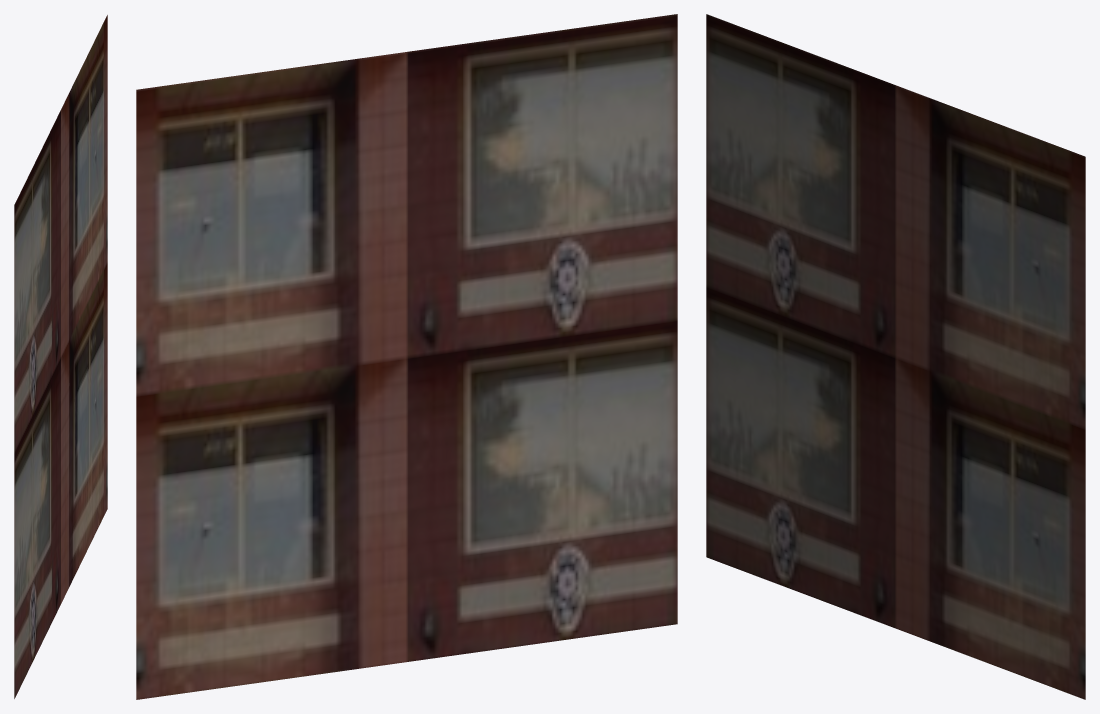
The model's file is ResTex__3428.fbx.
The picture shows the model from 3 angles, left to right: view 1: azimuth 30°, elevation 25°; view 2: azimuth 150°, elevation 25°; view 3: azimuth 270°, elevation 25°; orthographic projection. The views are drawn at different scales.
Visible parts, largest first — view 1: CityEngineMaterial_13_m; view 2: CityEngineMaterial_13_m; view 3: CityEngineMaterial_13_m.
Part boxes in pixels (box(x1,y1,x2,y2)): CityEngineMaterial_13_m: box(14, 15, 107, 698); CityEngineMaterial_13_m: box(136, 14, 677, 699); CityEngineMaterial_13_m: box(706, 14, 1085, 699).
Bounding box in the file's own units: 3.38 × 6 × 3.8.
1 material, 1 textured.
